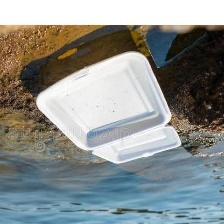foam_box: (31, 46, 187, 168)
